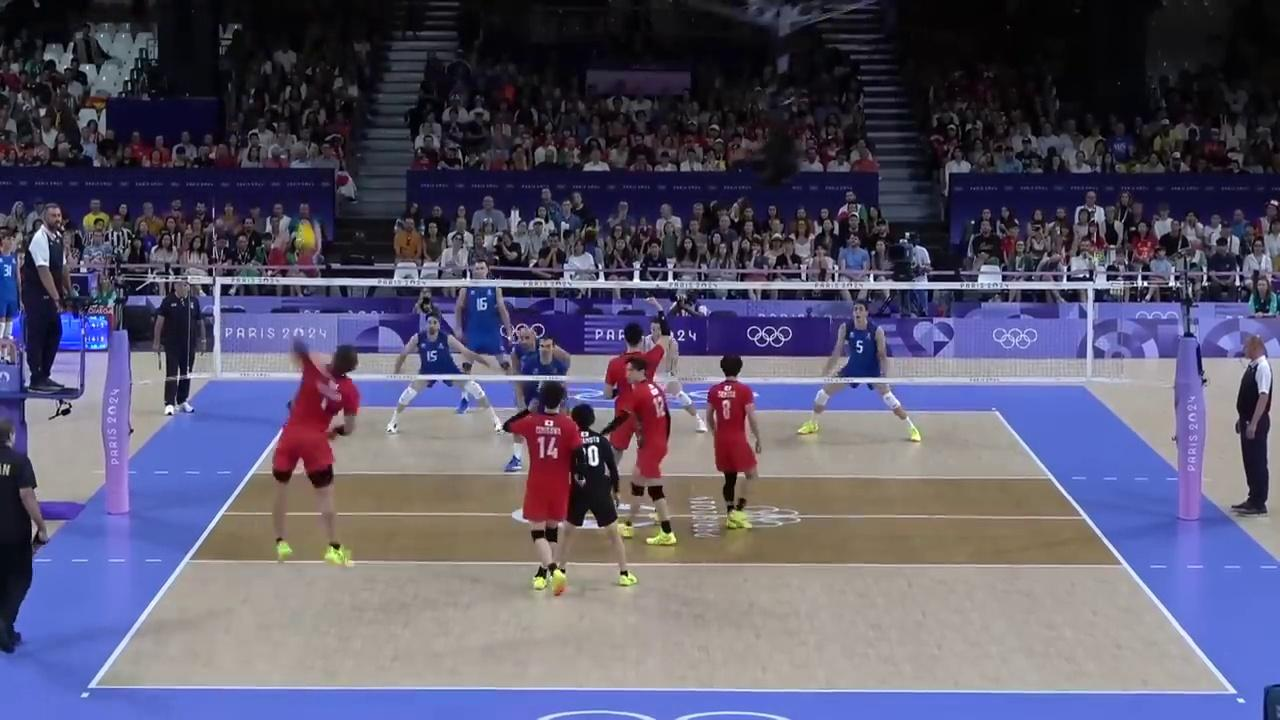ball: (293, 223, 318, 251)
